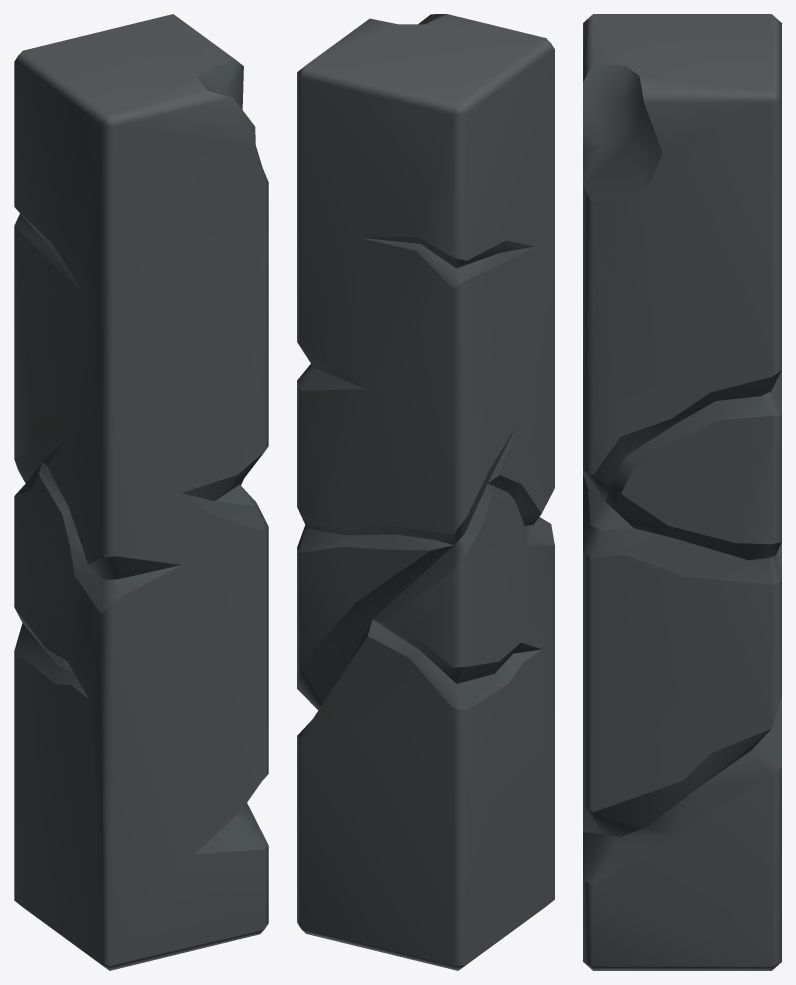
File: pillar_003.glb
The picture shows the model from 3 angles, left to right: view 1: azimuth 30°, elevation 25°; view 2: azimuth 150°, elevation 25°; view 3: azimuth 270°, elevation 25°; orthographic projection. The views are drawn at different scales.
Parts seen in each view (by area): view 1: pillar_003; view 2: pillar_003; view 3: pillar_003.
Boxes of the visible parts, x1=… form: pillar_003: x1=14, y1=14, x2=268, y2=970; pillar_003: x1=297, y1=14, x2=554, y2=970; pillar_003: x1=583, y1=14, x2=781, y2=970.
Size of the model in its own units: 2 by 9.78 by 2.
1 material, 1 textured.
